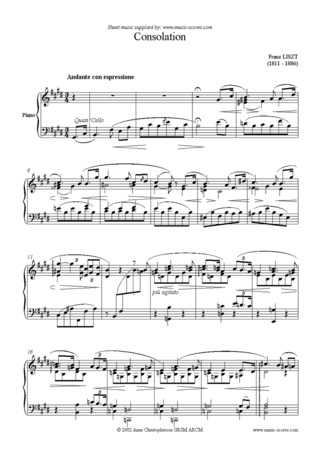Partitura: (20, 17, 303, 436)
